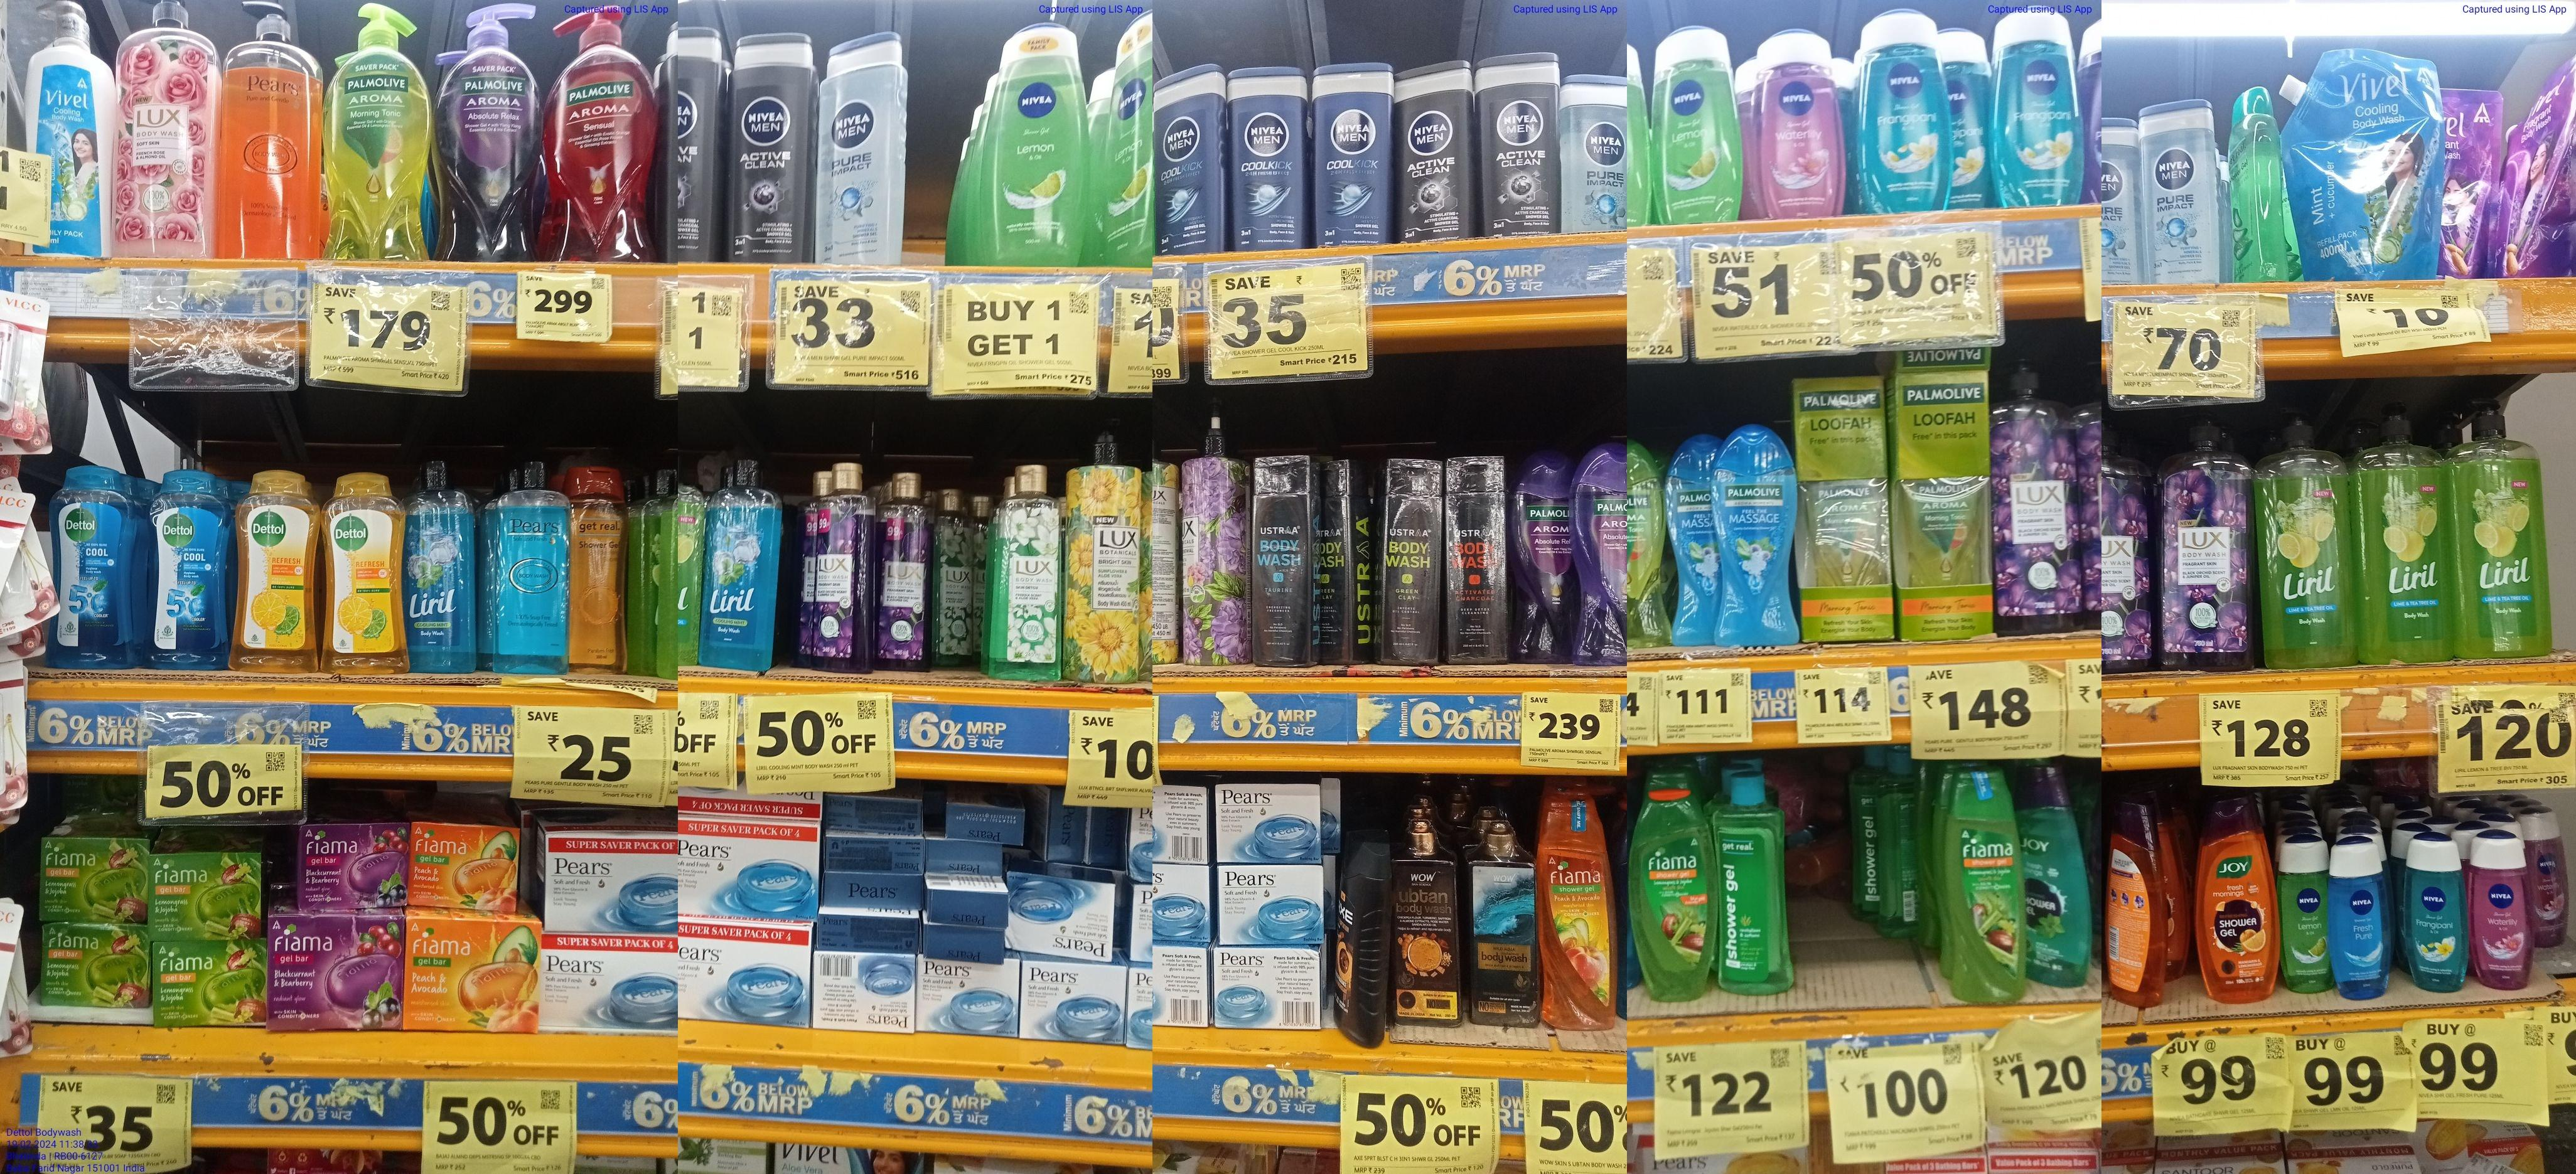Dettol_Bodywash_Cool: (148, 471, 230, 670), (49, 481, 131, 662)
Dettol_Bodywash_Refresh: (227, 465, 319, 676), (320, 461, 401, 673)
Liril_Cooling_Mint_Body_Wash_250ML: (406, 440, 486, 673)
Lux_Black_Orchid_Scent_and_Juniper_Oil_Body_Wash_245ML: (807, 468, 876, 667), (872, 461, 938, 670)
Lux_Body_Wash_Skin_Detox_Freesia_Scent_and_Alove_Vera_245ML: (986, 465, 1063, 690)
Nivea_Shower_Gel_Frangipani_and_Oil_250ML: (1986, 0, 2093, 202)
Nivea_Shower_Gel_Lemon_and_Oil_250ML: (1648, 28, 1736, 220)
Nivea_Shower_Gel_Waterlily_and_Oil_250ML: (1763, 26, 1843, 213)
Palmolive_Aroma_Moments_Feel_The_Massage_Shower_Gel_250ML: (1713, 430, 1802, 653)
Pears_Pure_Glycerin_and_Mint_Extracts_Body_Wash_250ML: (481, 461, 565, 673), (710, 461, 784, 673)
